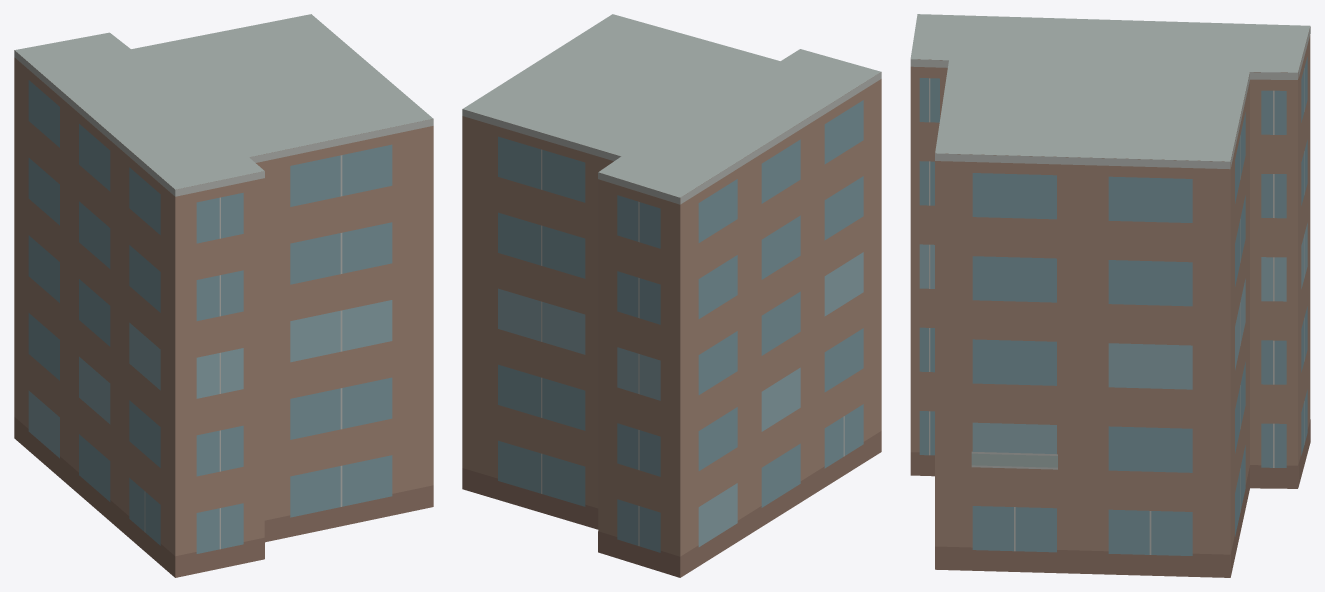
The model's file is survey-upis-32576033.glb.
The picture shows the model from 3 angles, left to right: view 1: azimuth 30°, elevation 25°; view 2: azimuth 150°, elevation 25°; view 3: azimuth 270°, elevation 25°; orthographic projection. The views are drawn at different scales.
Visible parts, largest first — view 1: survey-upis-32576033.tmp; view 2: survey-upis-32576033.tmp; view 3: survey-upis-32576033.tmp.
Boxes of the visible parts, x1=… form: survey-upis-32576033.tmp: x1=14, y1=14, x2=433, y2=577; survey-upis-32576033.tmp: x1=462, y1=14, x2=881, y2=577; survey-upis-32576033.tmp: x1=910, y1=14, x2=1310, y2=577.
Bounding box in the file's own units: 10.2 × 13.4 × 11.68.
